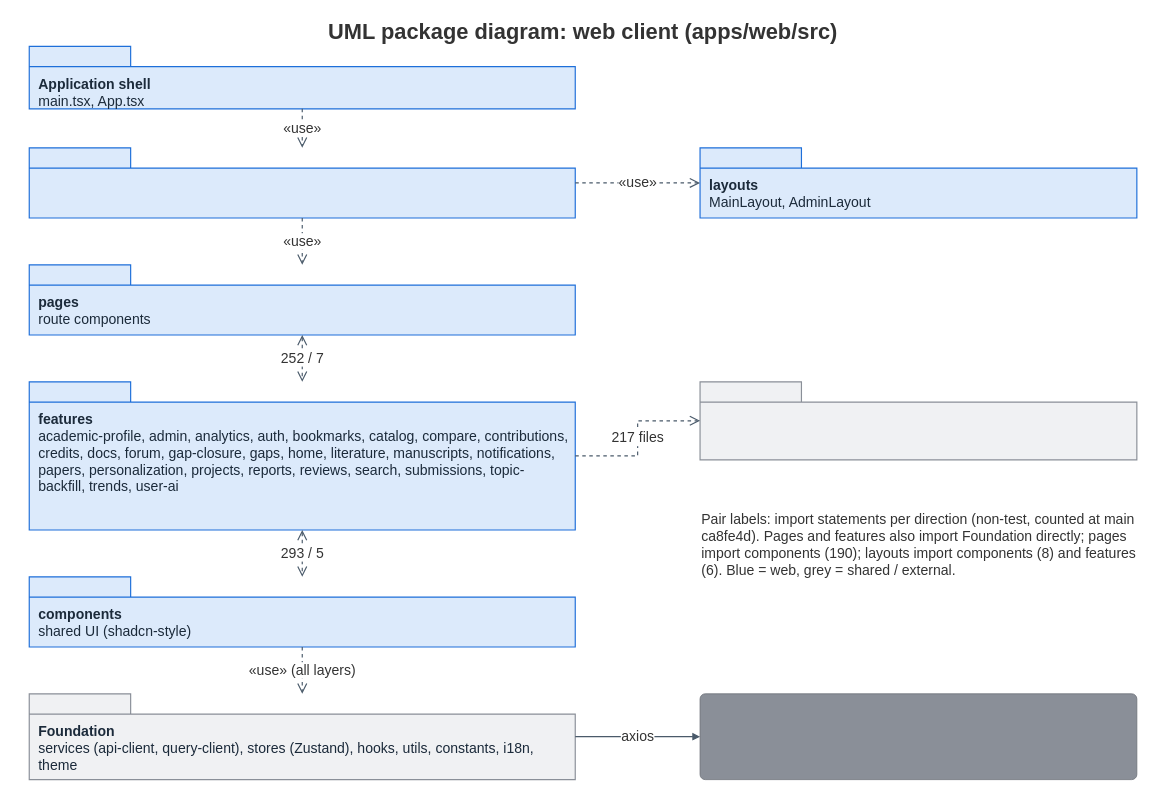
Image size: 1165x793. Some labels were removed from this diagram. Each missing label, with the centre of its shape:
@trend/shared-types packages/shared-types: point 918,420
Backend API [HTTP /api/v1] called by services/api-client (axios): point 918,736
routes app-routes.tsx (lazy-loaded pages): point 301,182
